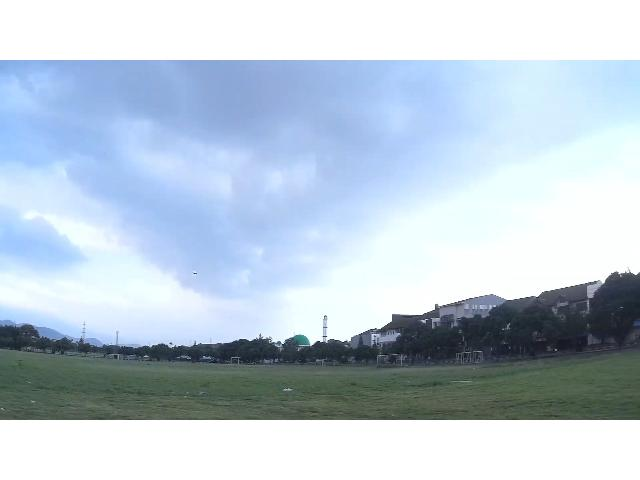Anti-Drone: (188, 265, 200, 281)
